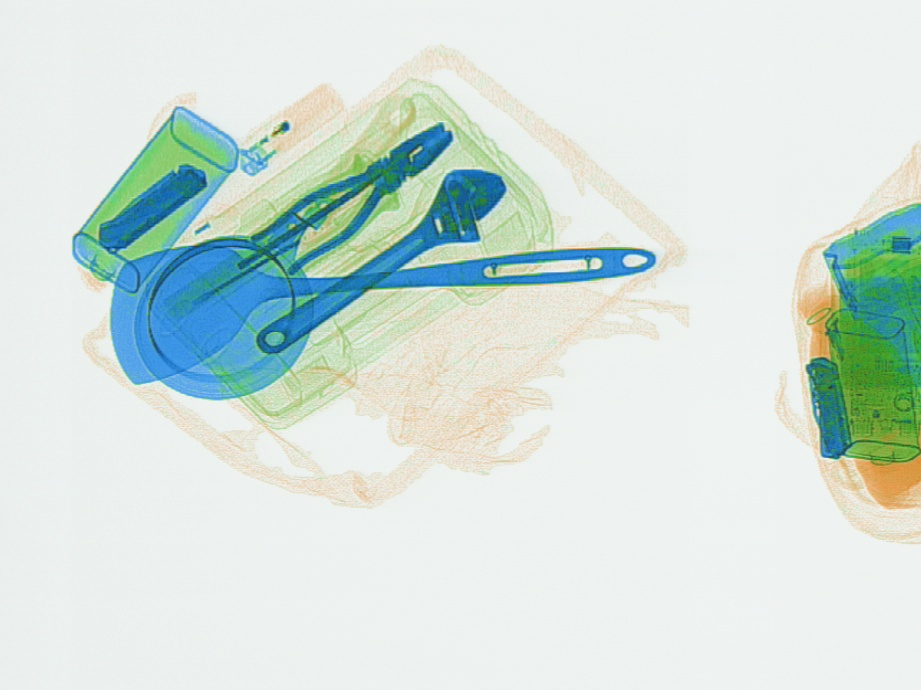knife: (96, 161, 210, 254), (803, 352, 852, 459)
lighter: (233, 76, 343, 173)
zippooil: (69, 102, 235, 291), (821, 305, 917, 465)
